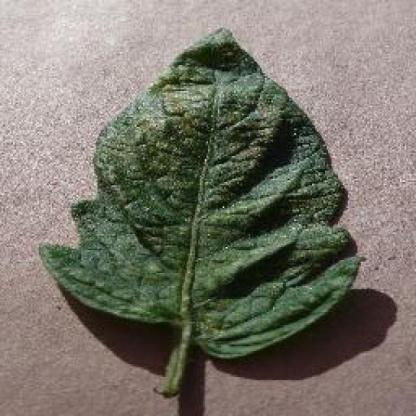Tomato_Spider_Mites: (40, 31, 360, 356)
